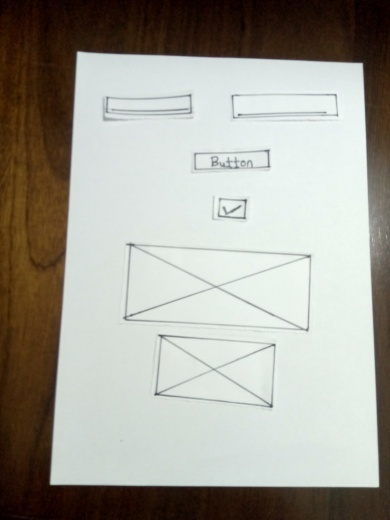button: (191, 151, 273, 170)
checkbox: (216, 200, 247, 218)
img: (129, 246, 311, 323), (155, 336, 273, 401)
text: (236, 95, 336, 114), (109, 97, 193, 113)
